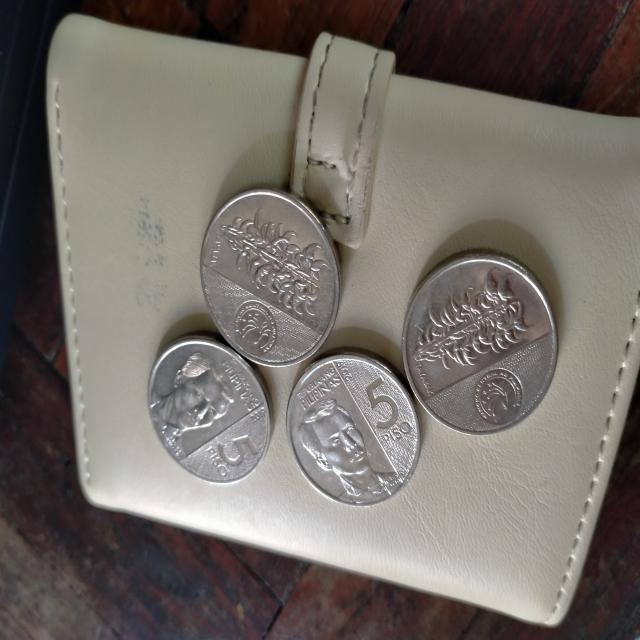5_New_Back: (402, 266, 542, 378), (212, 200, 328, 323)
5_New_Front: (358, 358, 412, 450), (202, 418, 264, 486)
